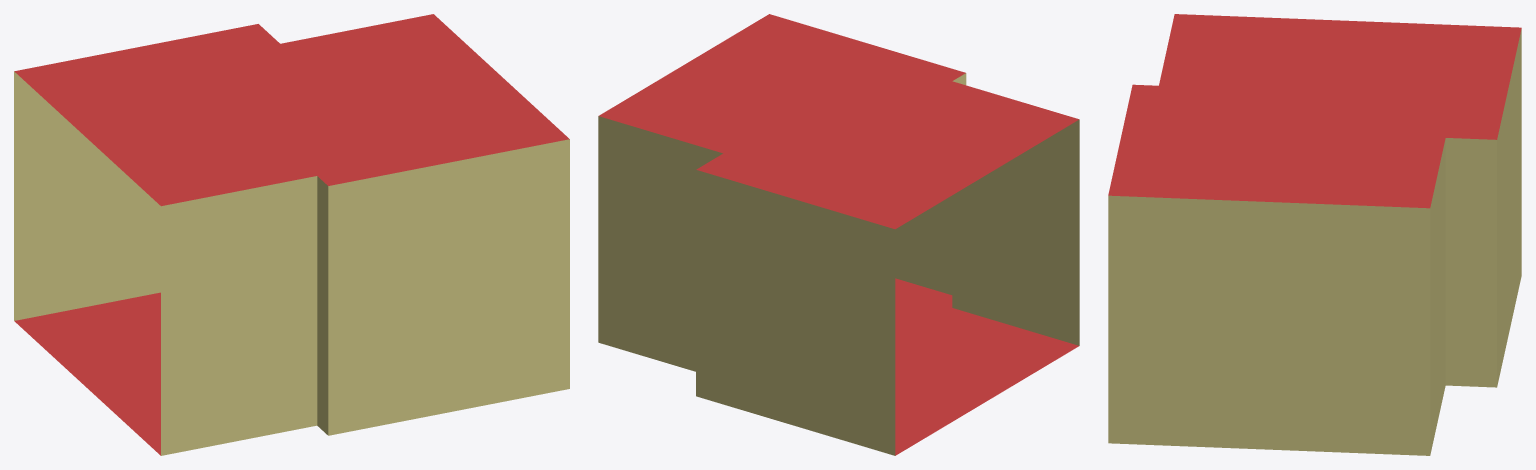
The picture shows the model from 3 angles, left to right: view 1: azimuth 30°, elevation 25°; view 2: azimuth 150°, elevation 25°; view 3: azimuth 270°, elevation 25°; orthographic projection. The views are drawn at different scales.
Bounding box in the file's own units: 10.81 × 9.73 × 6.43.
